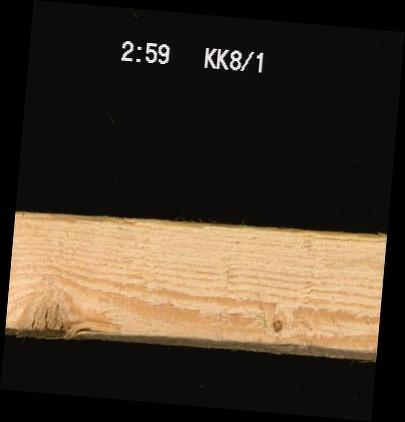dry_knot: (270, 316, 283, 332)
edge_knot: (15, 285, 93, 337)
